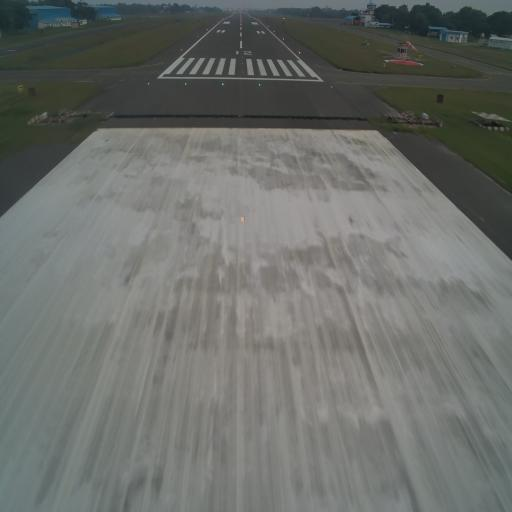off: (479, 212, 486, 226)
on: (238, 208, 248, 228)
